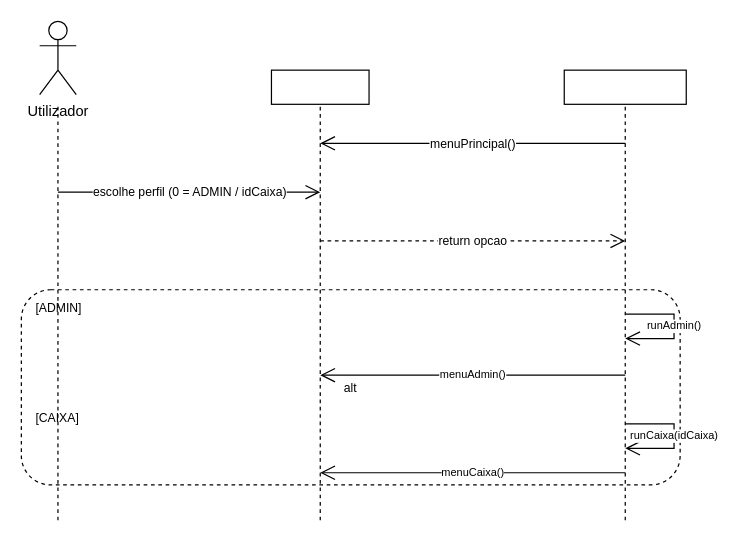
This 739x544 diagram has some shape labels left out. The shapes that lost their labels are listed below. From the top down, each one's centre as x and y in pixels, then its label:
At pixel 319 86: ":View".
At pixel 624 86: ":Controller".
